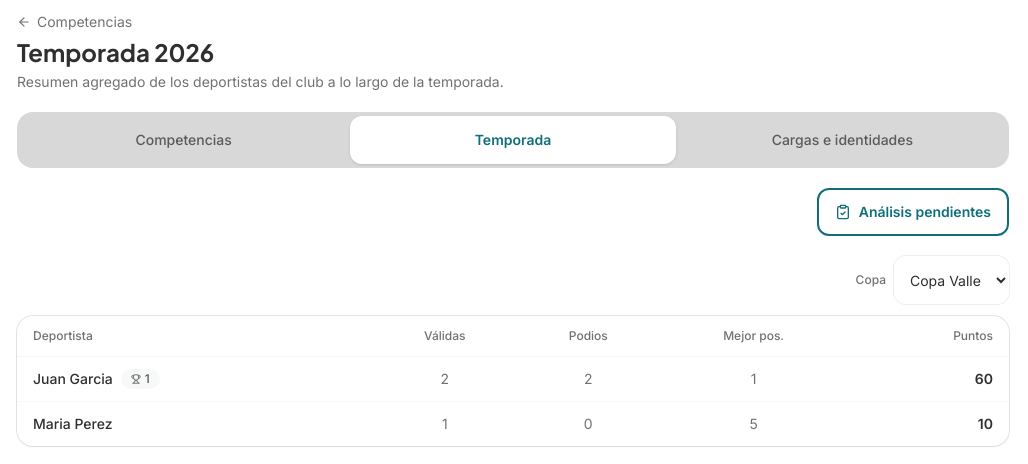
Test case: SeasonInsightsPage › Wave 3 — selector de copa (hotfix multicopa) › con 2+ copas muestra el selector y las cifras cambian según la copa elegida
Expected: the table with test id "season-insights-table" is shown, [17, 316, 1009, 446]
Expected: the row with test id "season-row-144" shows "2", [440, 370, 449, 387]
Select "Let's GO" in the dropdown with test id "season-insights-series-select" at (952, 280), box [894, 256, 1009, 304]
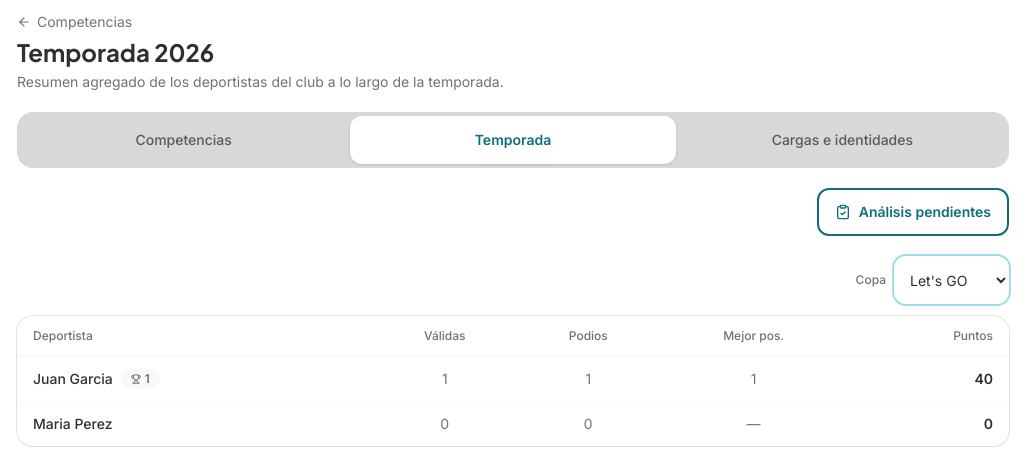
Expected: the row with test id "season-row-144" shows "40", [974, 370, 993, 387]
Expected: the row with test id "season-row-145" shows "—", [747, 415, 761, 432]
